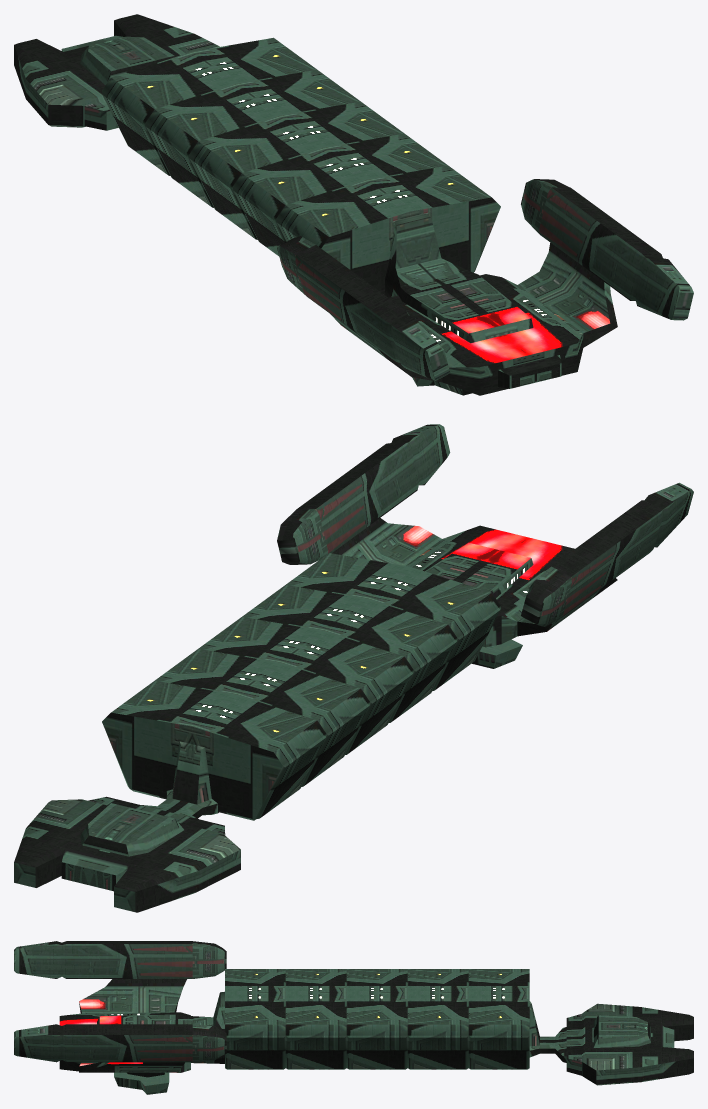
The model's file is Kling_Duj.fbx.
The picture shows the model from 3 angles, top to bottom: view 1: azimuth 30°, elevation 25°; view 2: azimuth 150°, elevation 25°; view 3: azimuth 270°, elevation 25°; orthographic projection. The views are drawn at different scales.
Parts seen in each view (by area): view 1: Kling_Duj; view 2: Kling_Duj; view 3: Kling_Duj.
Part boxes in pixels (x1=…): Kling_Duj: x1=14, y1=14, x2=693, y2=395; Kling_Duj: x1=14, y1=424, x2=693, y2=912; Kling_Duj: x1=14, y1=941, x2=693, y2=1094.
Bounding box in the file's own units: 135 × 62.78 × 411.
Materials: 1 (1 with a texture image).
